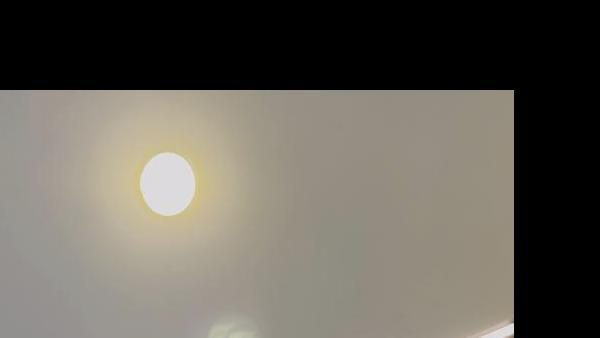light_on: (120, 141, 218, 220), (312, 315, 514, 338)
